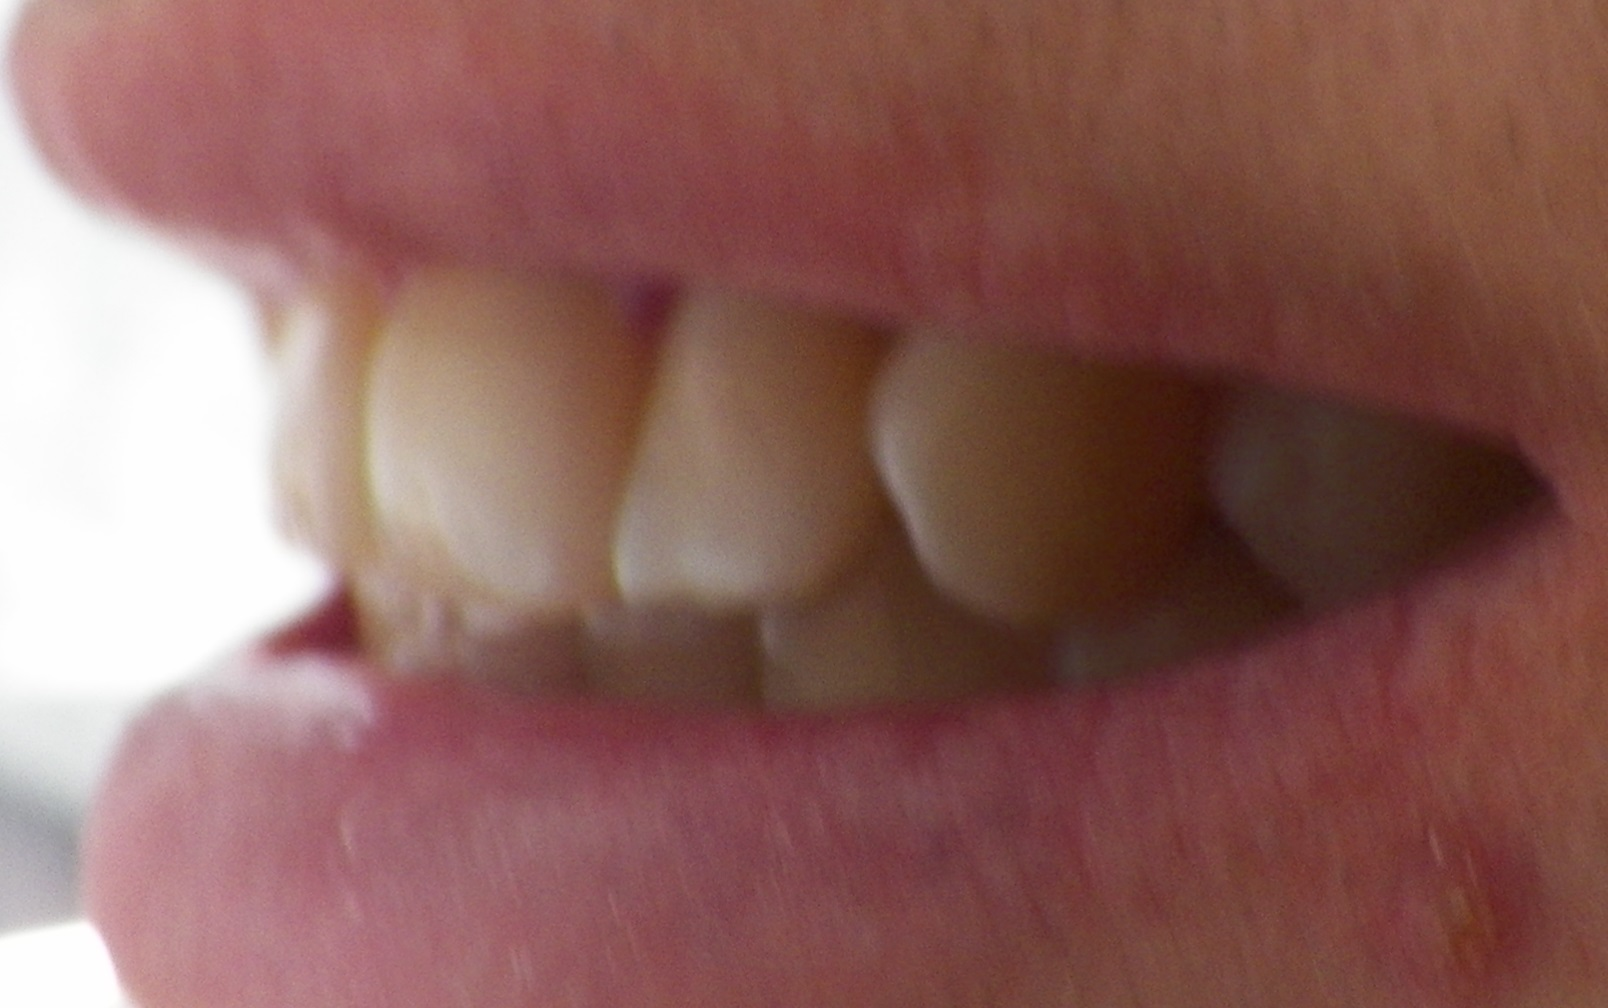boca: (272, 260, 1517, 722)
